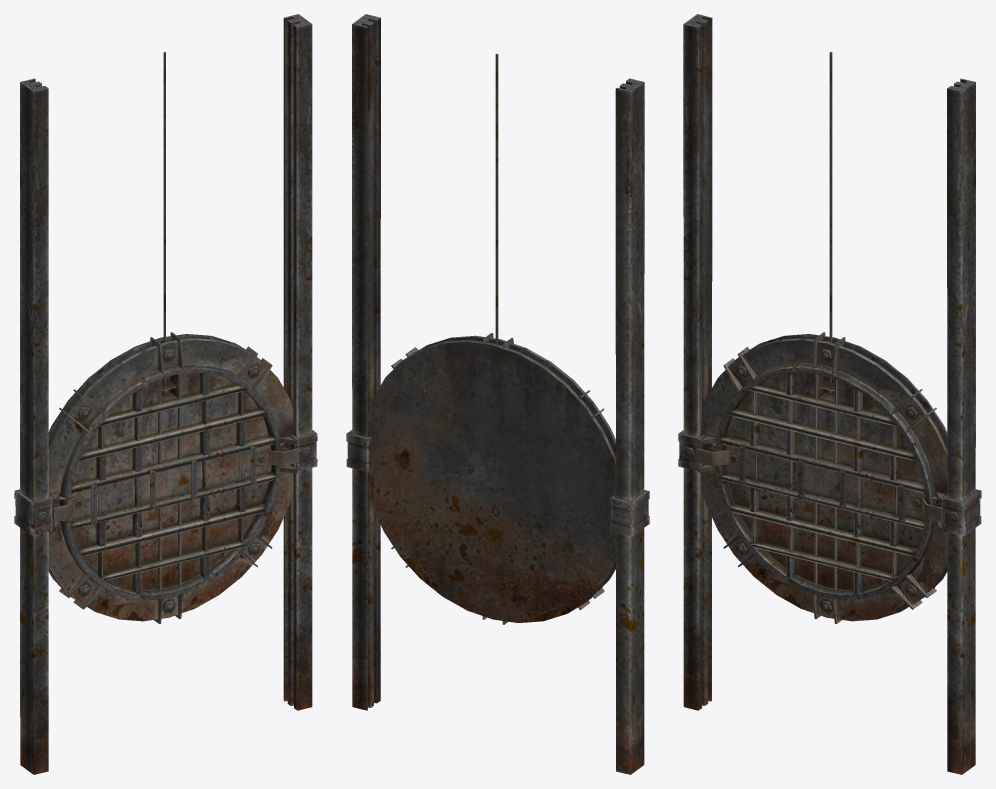
File: sm22_025_floodgate01a.fbx
3 renders of one model, left to right at view 1: azimuth 30°, elevation 25°; view 2: azimuth 150°, elevation 25°; view 3: azimuth 330°, elevation 25°, orthographic.
Parts seen in each view (by area): view 1: LOD_1_Group_0_Sub_1__sm22_025_FloodGate01A_A_Mat; view 2: LOD_1_Group_0_Sub_1__sm22_025_FloodGate01A_A_Mat; view 3: LOD_1_Group_0_Sub_1__sm22_025_FloodGate01A_A_Mat.
Part boxes in pixels (box(x1,y1,x2,y2)): LOD_1_Group_0_Sub_1__sm22_025_FloodGate01A_A_Mat: box(14, 14, 317, 774); LOD_1_Group_0_Sub_1__sm22_025_FloodGate01A_A_Mat: box(346, 14, 649, 774); LOD_1_Group_0_Sub_1__sm22_025_FloodGate01A_A_Mat: box(678, 14, 981, 774).
Size of the model in its own units: 3.98 by 9.1 by 0.4667.
